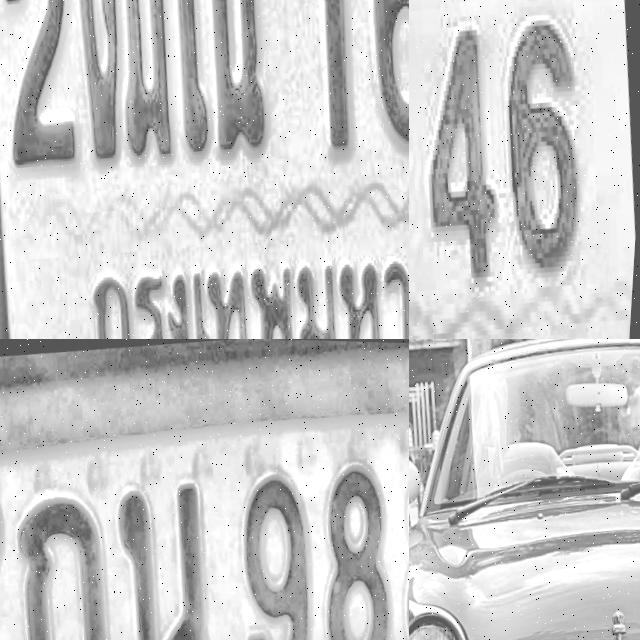license-plate: (0, 0, 409, 339), (0, 339, 409, 640), (409, 0, 640, 339)
